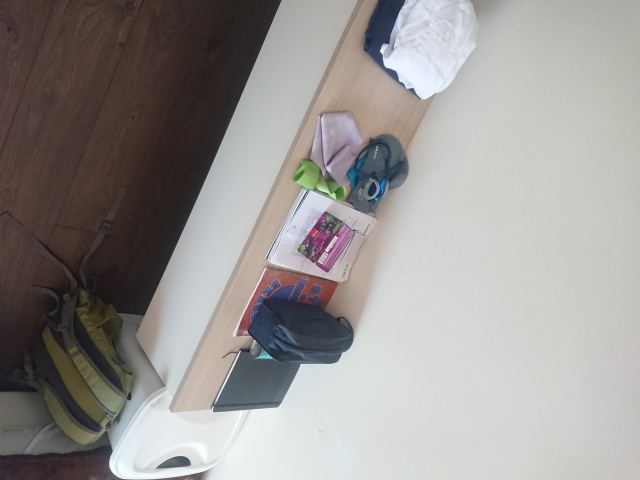Franck Black Currant Tea 60g: (295, 209, 357, 275)
